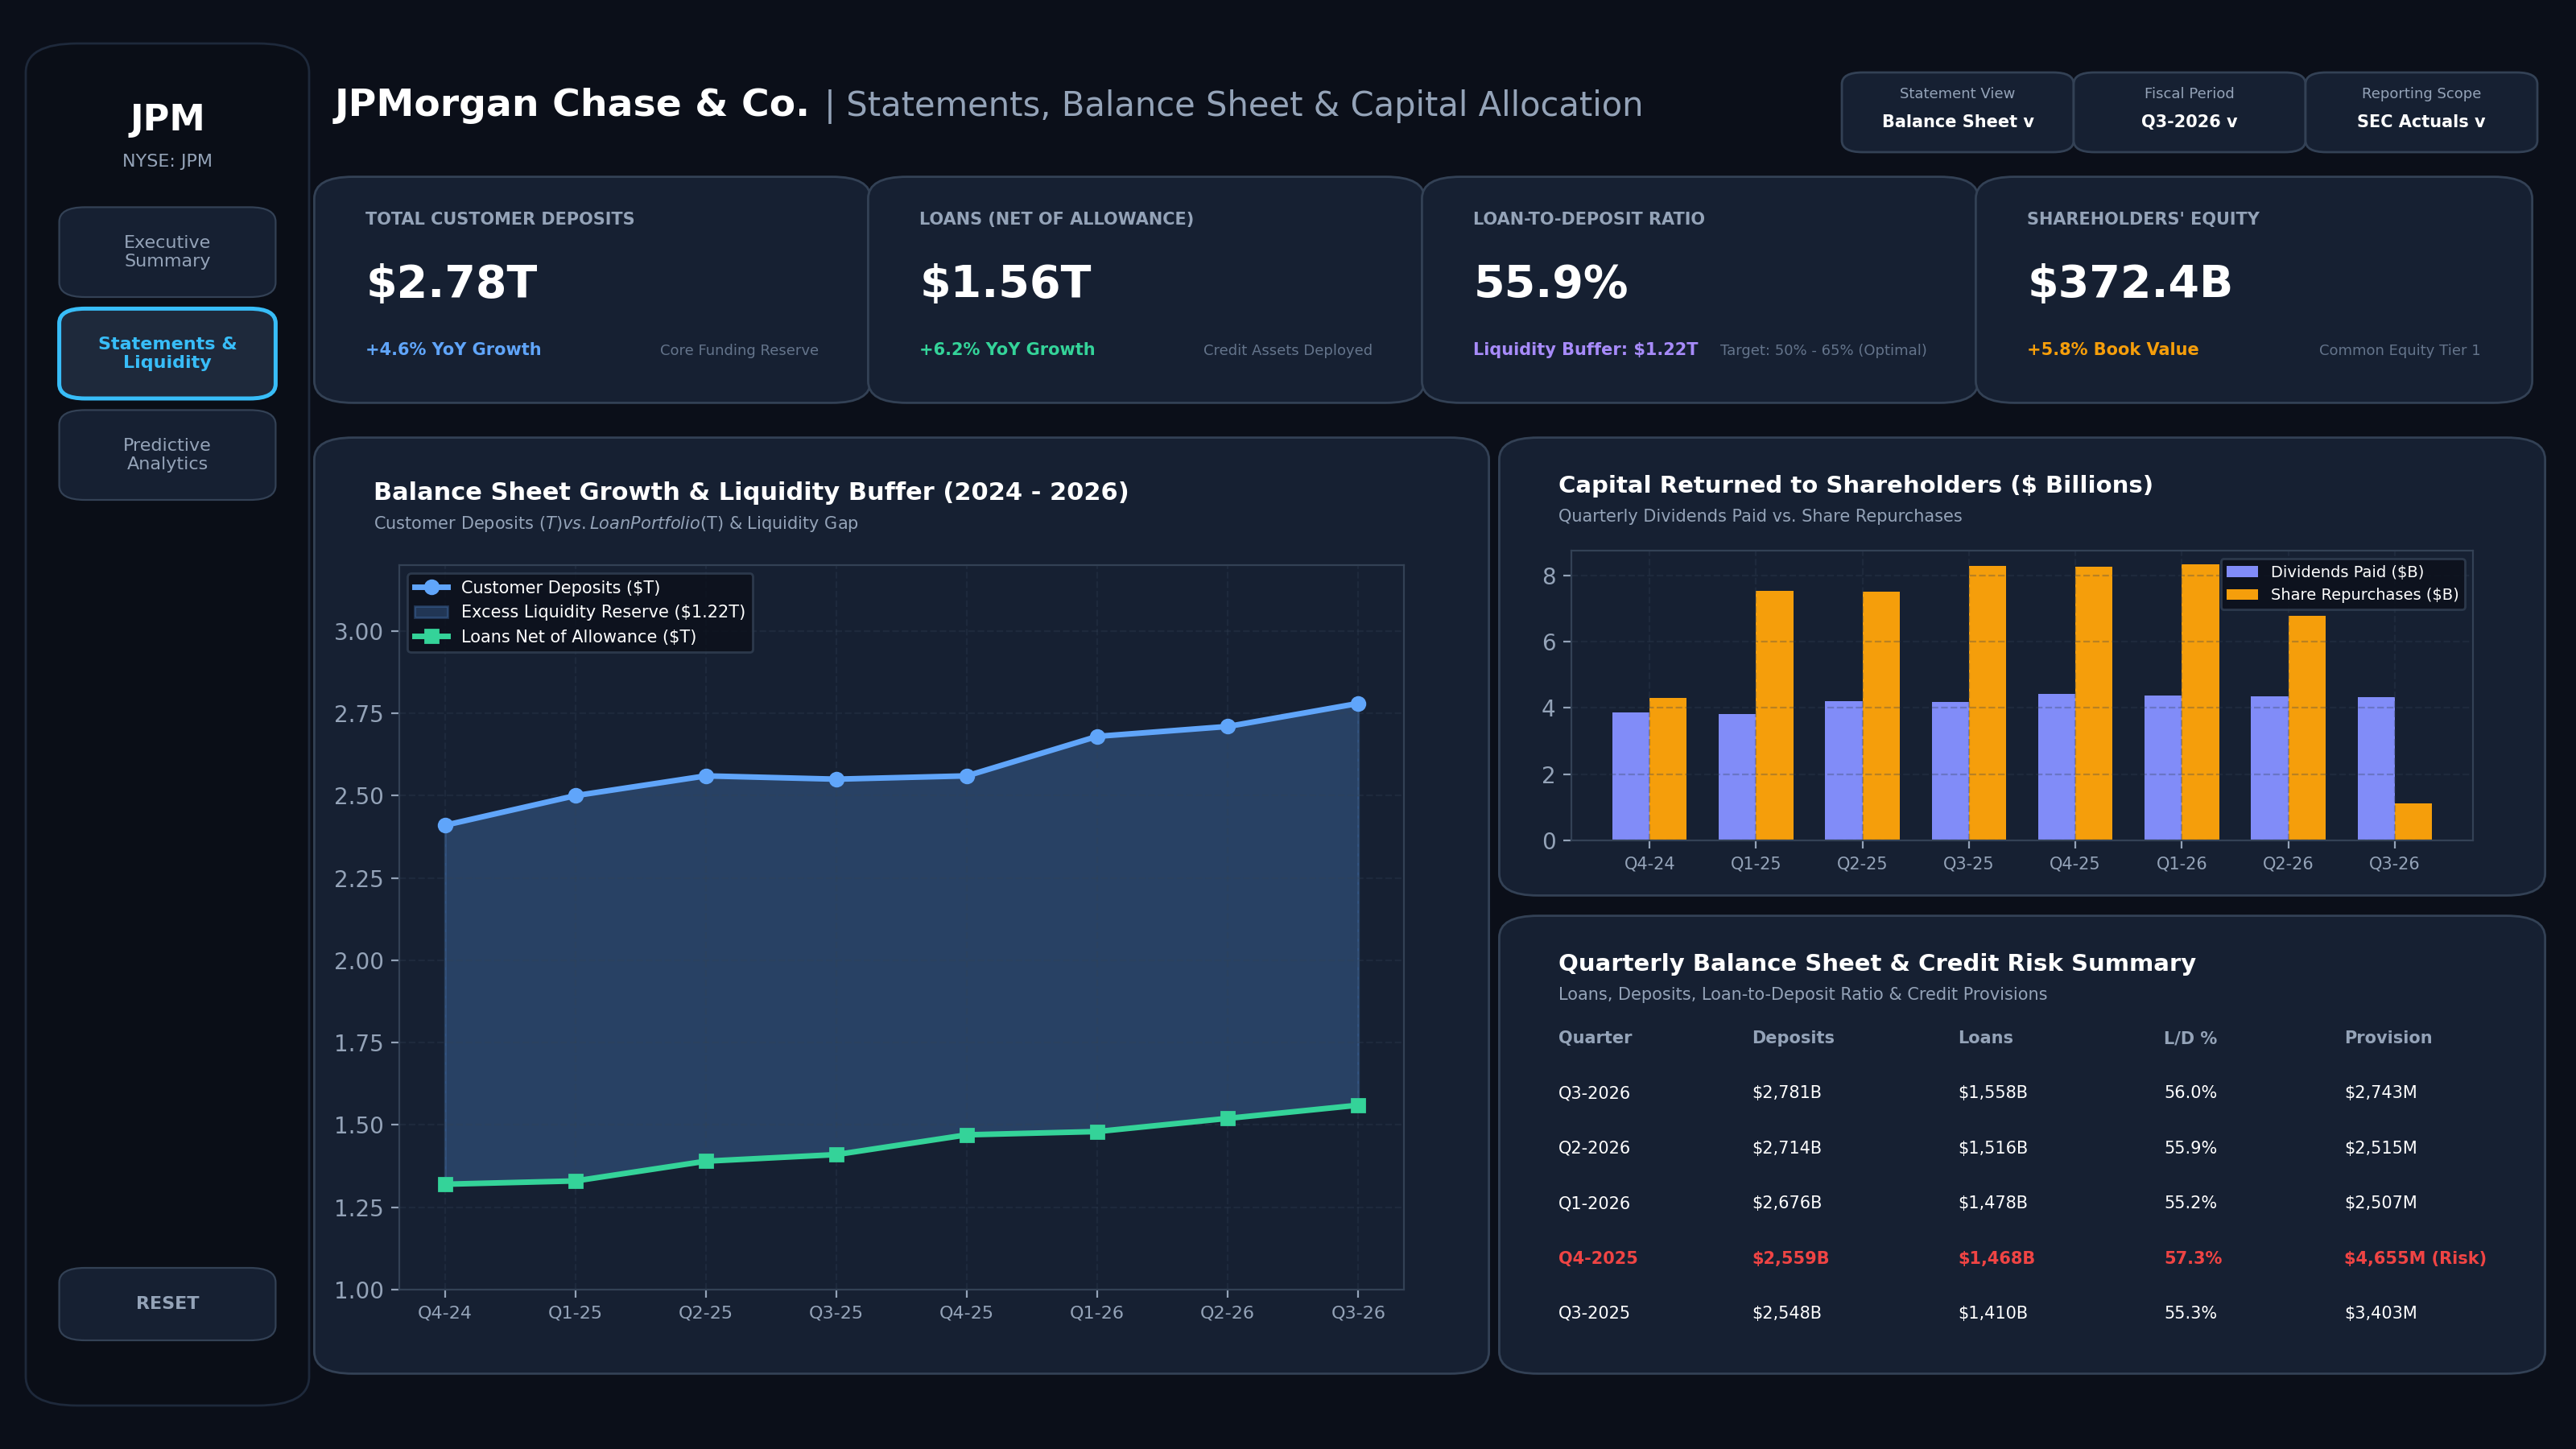

The dashboard page shown, as its layout file describes it:
{"tool":"powerbi","page":{"name":"Statements, Cash Flow Waterfall & Capital Structure","canvas":[1920,1080],"ordinal":1},"visuals":[{"type":"shape","box":[14,80,194,988],"z":0},{"type":"waterfallChart","title":"Cash Flow & Capital Allocation Waterfall ($ Billions)","fields":{"Category":["jpm_financials_tidy_long.Metric"],"Y":["_JPM_Measures.Cash Flow Value"]},"box":[242,316,930,746],"z":1000},{"type":"cardVisual","fields":{"Data":["_JPM_Measures.Total Deposits","_JPM_Measures.Operating Cash Flow","_JPM_Measures.Loan to Deposit Ratio %","_JPM_Measures.Shareholders Equity"]},"box":[242,80,1664,216],"z":2000},{"type":"donutChart","title":"Balance Sheet Funding Structure ($5.09T Total)","fields":{"Category":["Capital_Structure.Component"],"Y":["Sum(Capital_Structure.Amount_Billion)"]},"box":[1190,316,716,400],"z":3000},{"type":"gauge","title":"Target: 50% - 65% (Optimal Range) | Regulatory Ceiling: 65%","fields":{"Y":["_JPM_Measures.Loan to Deposit Ratio %"]},"box":[1189.2,728.6,716.9,333.3],"z":4000},{"type":"actionButton","box":[26,282,168.3,138.9],"z":5000},{"type":"actionButton","box":[26.7,464.8,168.3,138.9],"z":6000},{"type":"actionButton","box":[26.7,638.4,168.3,138.9],"z":7000},{"type":"actionButton","box":[46,976,126,52],"z":8000},{"type":"textbox","box":[14,0,1892,80],"z":9000}]}

Visuals, with their boxes in screenshot pixels (x1, y1, x2, y2), scaled from the page's 1920x1080 canvas onto the 2576x1449 screenshot:
shape: {"x1": 19, "y1": 107, "x2": 279, "y2": 1433}
"Cash Flow & Capital Allocation Waterfall ($ Billions)" waterfallChart: {"x1": 324, "y1": 424, "x2": 1572, "y2": 1425}
cardVisual - _JPM_Measures.Total Deposits x _JPM_Measures.Operating Cash Flow: {"x1": 324, "y1": 107, "x2": 2557, "y2": 397}
"Balance Sheet Funding Structure ($5.09T Total)" donutChart: {"x1": 1596, "y1": 424, "x2": 2557, "y2": 960}
"Target: 50% - 65% (Optimal Range) | Regulatory Ceiling: 65%" gauge: {"x1": 1596, "y1": 977, "x2": 2557, "y2": 1425}
actionButton: {"x1": 35, "y1": 378, "x2": 261, "y2": 565}
actionButton: {"x1": 35, "y1": 624, "x2": 262, "y2": 810}
actionButton: {"x1": 35, "y1": 857, "x2": 262, "y2": 1043}
actionButton: {"x1": 62, "y1": 1310, "x2": 231, "y2": 1379}
textbox: {"x1": 19, "y1": 0, "x2": 2557, "y2": 107}
